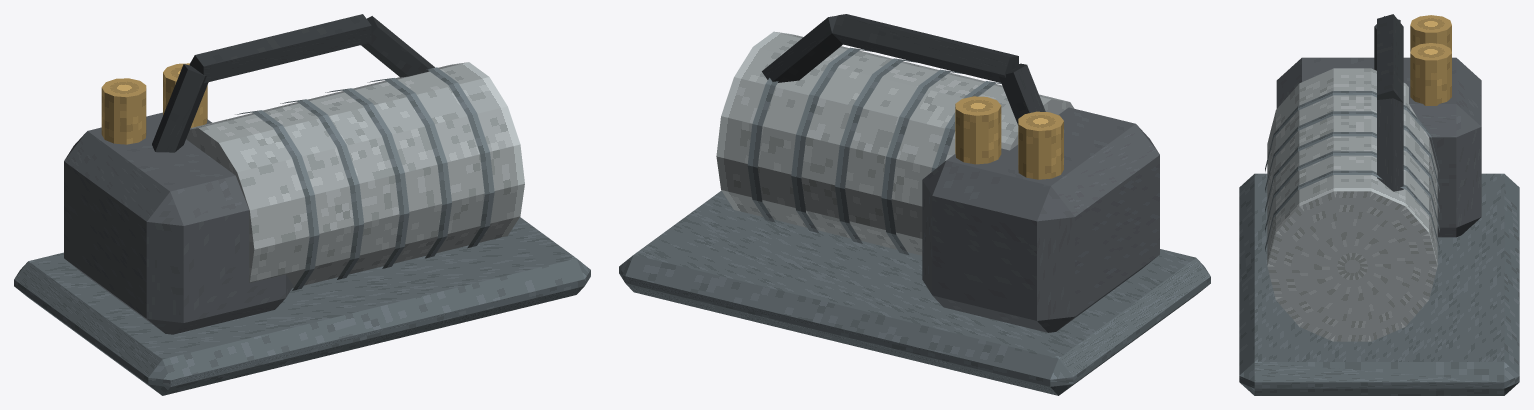
The model's file is vac_pump.glb.
3 views of the same model, side by side, from view 1: azimuth 30°, elevation 25°; view 2: azimuth 150°, elevation 25°; view 3: azimuth 270°, elevation 25° (orthographic). The views are drawn at different scales.
Visible parts, largest first — view 1: block_electric pump drive, block_pump skid base, block_pump chamber, block_cooling rib (×5), block_carrying handle 1, block_external threaded port (×2), block_carrying handle 0, block_carrying handle 2; view 2: block_pump skid base, block_pump chamber, block_electric pump drive, block_cooling rib (×5), block_external threaded port (×2), block_carrying handle 1, block_carrying handle 2, block_carrying handle 0; view 3: block_electric pump drive, block_pump skid base, block_pump chamber, block_cooling rib (×5), block_external threaded port (×2), block_carrying handle 2, block_carrying handle 1.
Boxes of the visible parts, box(x1,y1,x2,y2) form: block_electric pump drive: box(186, 62, 524, 288); block_pump skid base: box(14, 217, 590, 395); block_pump chamber: box(64, 112, 293, 334); block_cooling rib (×5): box(235, 67, 494, 290); block_carrying handle 1: box(189, 14, 371, 83); block_external threaded port (×2): box(101, 63, 207, 144); block_carrying handle 0: box(152, 64, 208, 152); block_carrying handle 2: box(361, 16, 434, 77); block_pump skid base: box(619, 190, 1210, 395); block_pump chamber: box(922, 107, 1159, 332); block_electric pump drive: box(716, 31, 1074, 255); block_cooling rib (×5): box(747, 47, 1001, 254); block_external threaded port (×2): box(955, 96, 1063, 179); block_carrying handle 1: box(832, 14, 1018, 82); block_carrying handle 2: box(762, 15, 842, 82); block_carrying handle 0: box(999, 63, 1045, 125); block_electric pump drive: box(1267, 68, 1437, 341); block_pump skid base: box(1239, 173, 1519, 395); block_pump chamber: box(1276, 57, 1481, 237); block_cooling rib (×5): box(1265, 91, 1439, 251); block_external threaded port (×2): box(1410, 15, 1451, 105); block_carrying handle 2: box(1377, 98, 1403, 191); block_carrying handle 1: box(1377, 14, 1403, 102).
Bounding box in the file's own units: 0.3471 × 0.1951 × 0.2046.
1 material, 1 textured.
